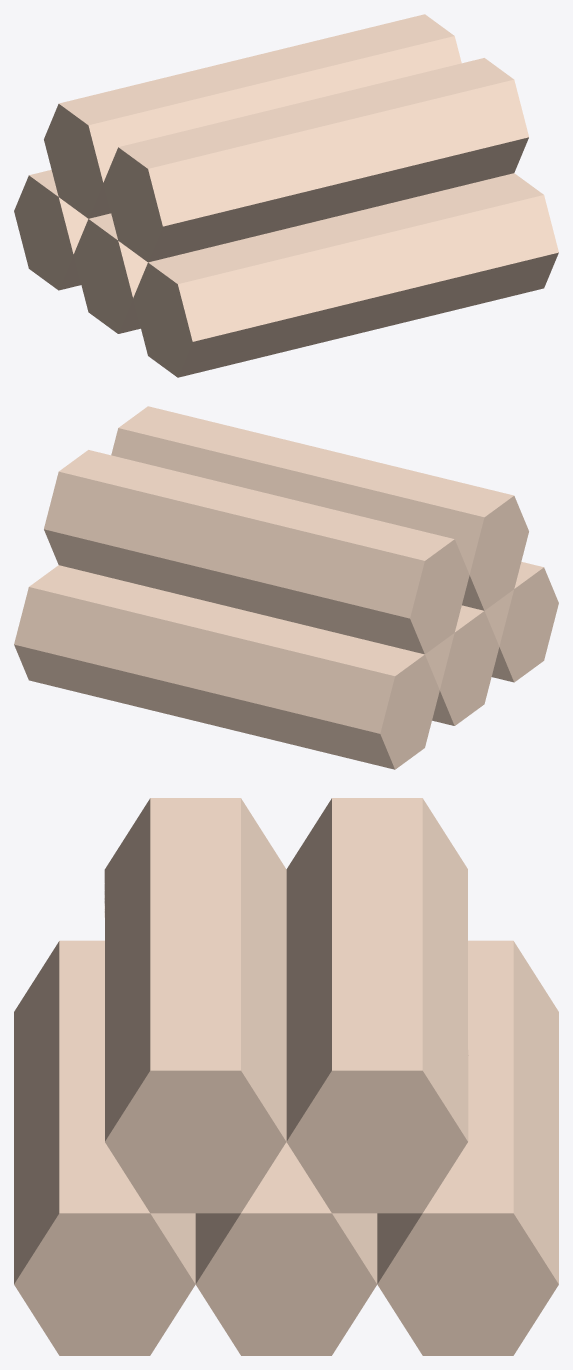
File: logs_stackLarge.fbx
3 views of the same model, one above another, from view 1: azimuth 30°, elevation 25°; view 2: azimuth 150°, elevation 25°; view 3: azimuth 270°, elevation 25° (orthographic). The views are drawn at different scales.
Visible parts, largest first — view 1: logs_stackLarge; view 2: logs_stackLarge; view 3: logs_stackLarge.
Boxes of the visible parts, bbox=[...] form: logs_stackLarge: bbox=[14, 14, 558, 377]; logs_stackLarge: bbox=[14, 406, 558, 769]; logs_stackLarge: bbox=[14, 798, 558, 1355].
Size of the model in its own units: 213 by 104 by 180.
